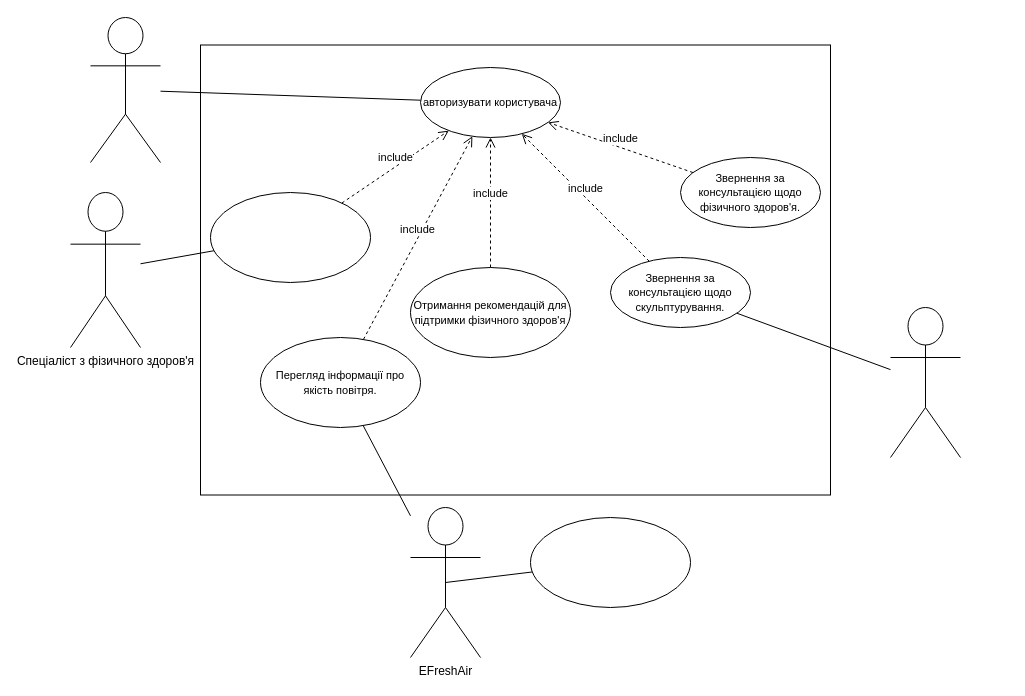
The diagram is 1025 pixels wide and 696 high, and some of its shapes have lost their labels. The centre of each missing label's shape, as x and y in pixels:
"Користувач" belongs at (x=125, y=89).
"Надання консультацій щодо фізичного здоров'я." belongs at (x=290, y=237).
"Отриматидодаткові дані для аналізу якості повітря." belongs at (x=610, y=562).
"Спеціаліст з скульптурування" belongs at (x=925, y=382).
